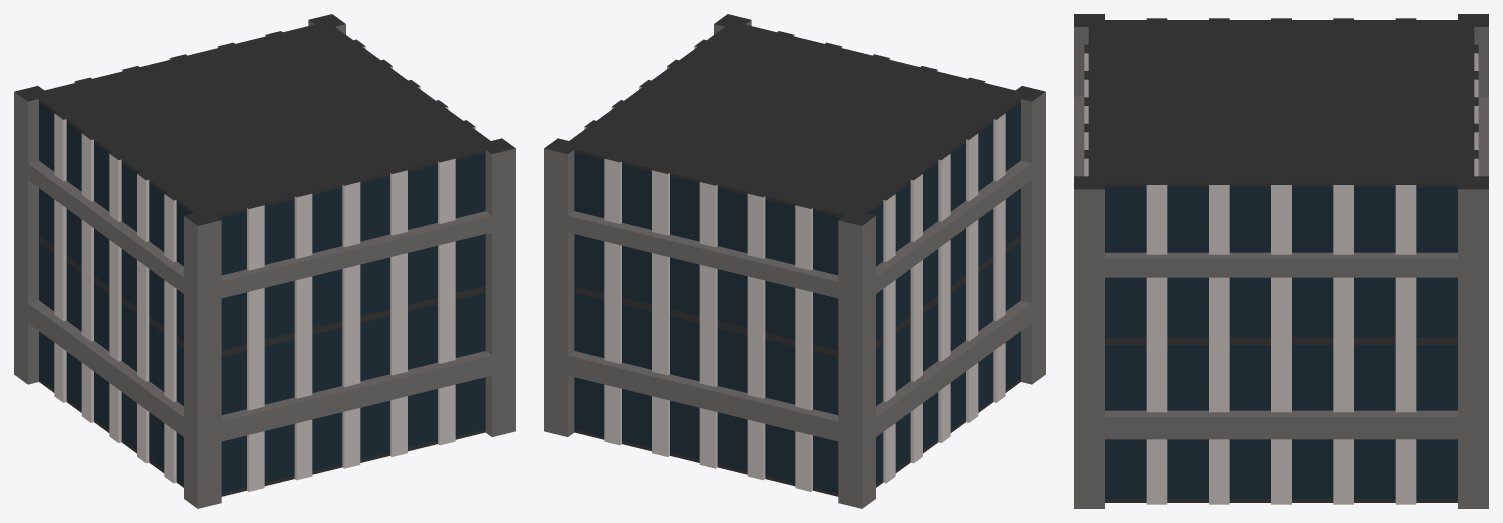
The model's file is skyscraper-part-middle.glb.
3 renders of one model, left to right at view 1: azimuth 30°, elevation 25°; view 2: azimuth 150°, elevation 25°; view 3: azimuth 270°, elevation 25°, orthographic. The views are drawn at different scales.
Parts seen in each view (by area): view 1: skyscraper-part-middle; view 2: skyscraper-part-middle; view 3: skyscraper-part-middle.
Boxes of the visible parts, x1=… form: skyscraper-part-middle: x1=14, y1=14, x2=515, y2=508; skyscraper-part-middle: x1=544, y1=14, x2=1045, y2=508; skyscraper-part-middle: x1=1074, y1=14, x2=1488, y2=508.
Bounding box in the file's own units: 20 × 17 × 20.
Materials: 1 (1 with a texture image).
